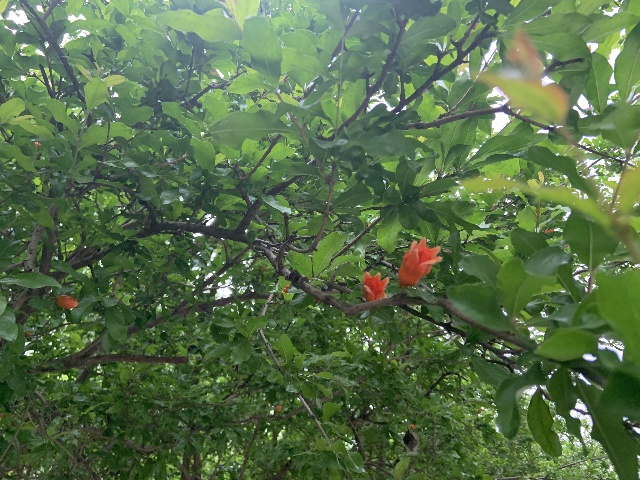bud: (55, 294, 79, 309), (283, 284, 289, 292)
flower: (397, 236, 443, 288), (361, 271, 389, 301)
